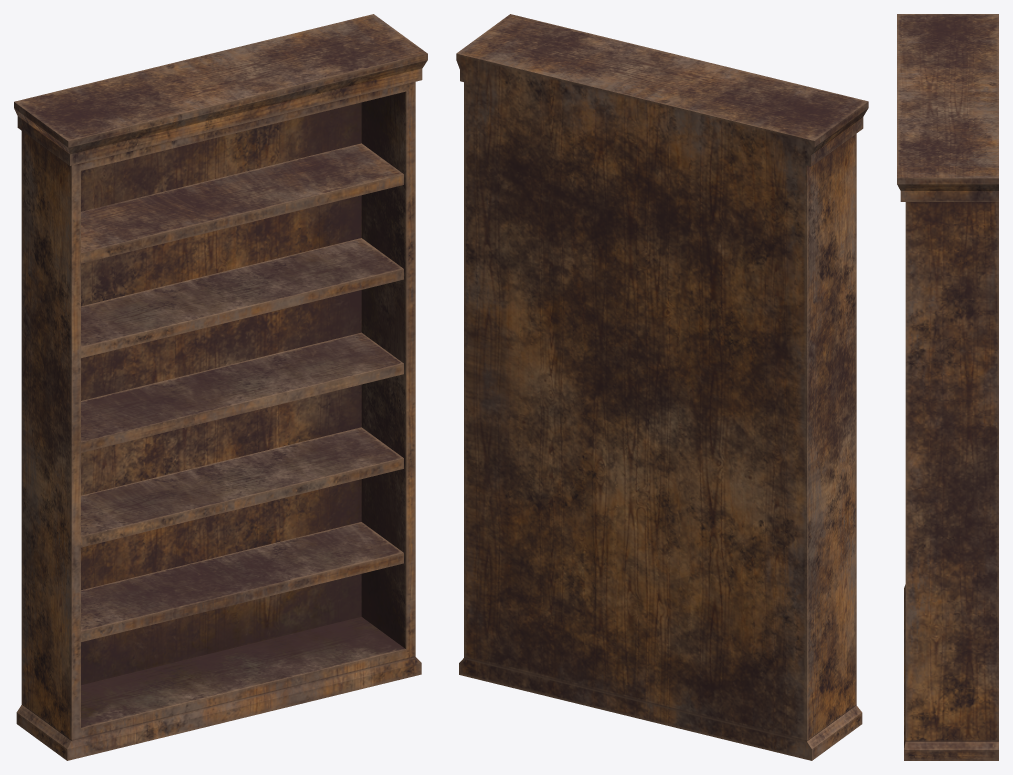
File: old_bookshelf.glb
3 views of the same model, side by side, from view 1: azimuth 30°, elevation 25°; view 2: azimuth 150°, elevation 25°; view 3: azimuth 270°, elevation 25° (orthographic). The views are drawn at different scales.
Visible parts, largest first — view 1: BookShelf_low, BookShelves_low; view 2: BookShelf_low; view 3: BookShelf_low.
Boxes of the visible parts, left/top/right/bottom form: BookShelf_low: left=14, top=14, right=427, bottom=760; BookShelves_low: left=81, top=143, right=403, bottom=641; BookShelf_low: left=456, top=14, right=868, bottom=760; BookShelf_low: left=897, top=14, right=998, bottom=760.
Bounding box in the file's own units: 1.29 × 2.14 × 0.3381.
Materials: 1 (1 with a texture image).
